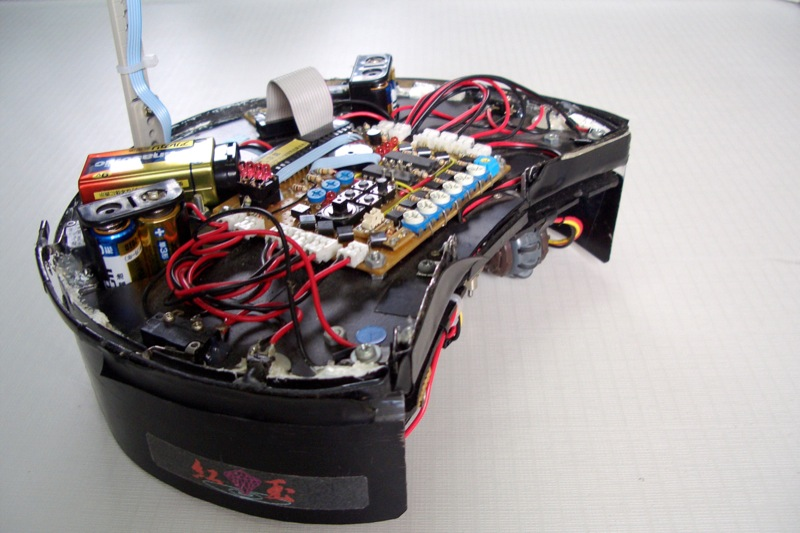Robot: (28, 13, 628, 525)
